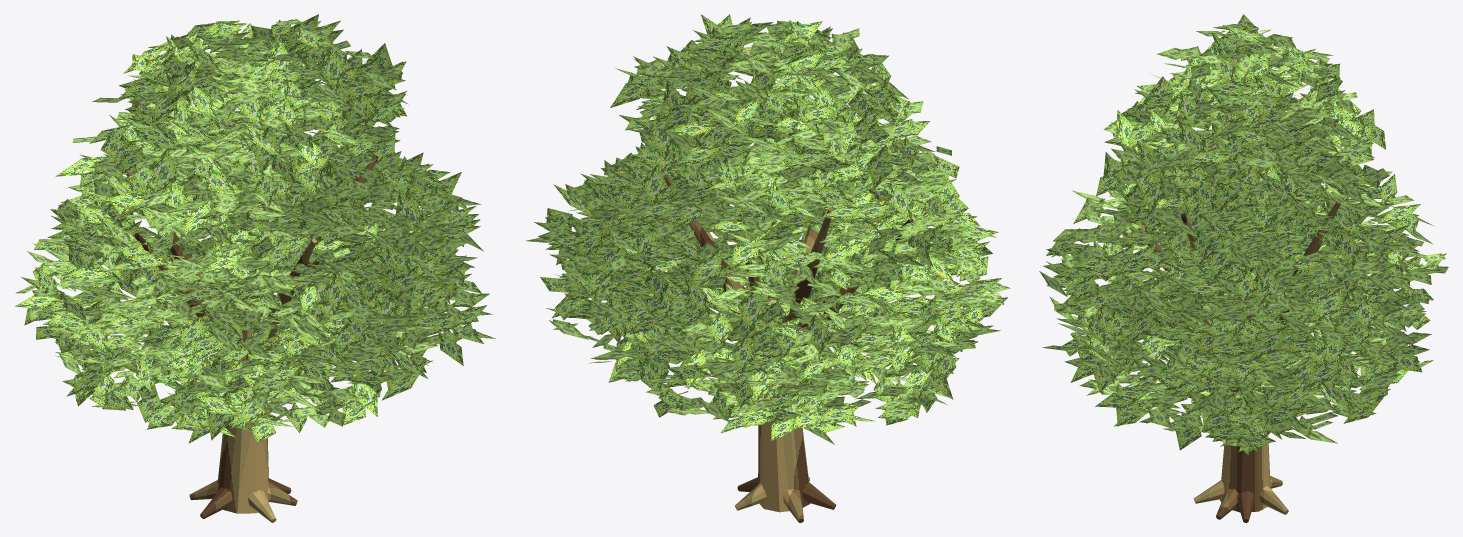
Rendered from cg_woodland.glb.
3 renders of one model, left to right at view 1: azimuth 30°, elevation 25°; view 2: azimuth 150°, elevation 25°; view 3: azimuth 270°, elevation 25°, orthographic. The views are drawn at different scales.
Visible parts, largest first — view 1: Canopy, Body; view 2: Canopy, Body; view 3: Canopy, Body.
Part boxes in pixels (x1,y1,x2,y2): Canopy: (15,14,495,443); Body: (120,103,378,522); Canopy: (526,14,1010,444); Body: (663,174,913,522); Canopy: (1039,14,1448,455); Body: (1133,199,1341,522).
Size of the model in its own units: 6.7 by 6.99 by 5.58.
2 materials, 2 textured.
